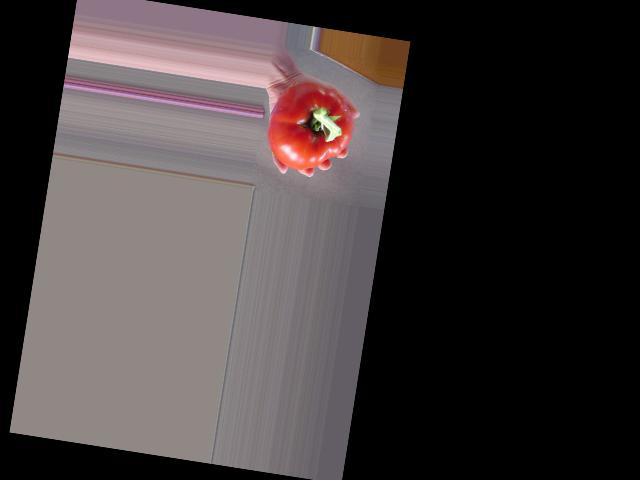tomato: (262, 77, 359, 177)
